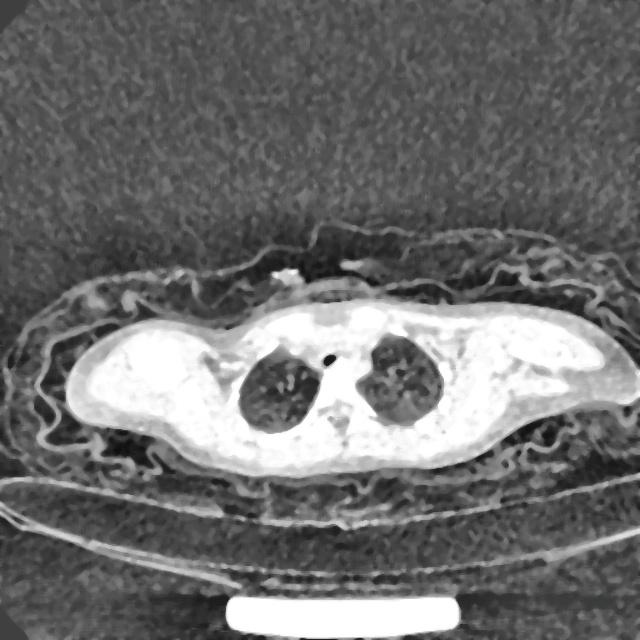covid: (62, 293, 638, 483)
